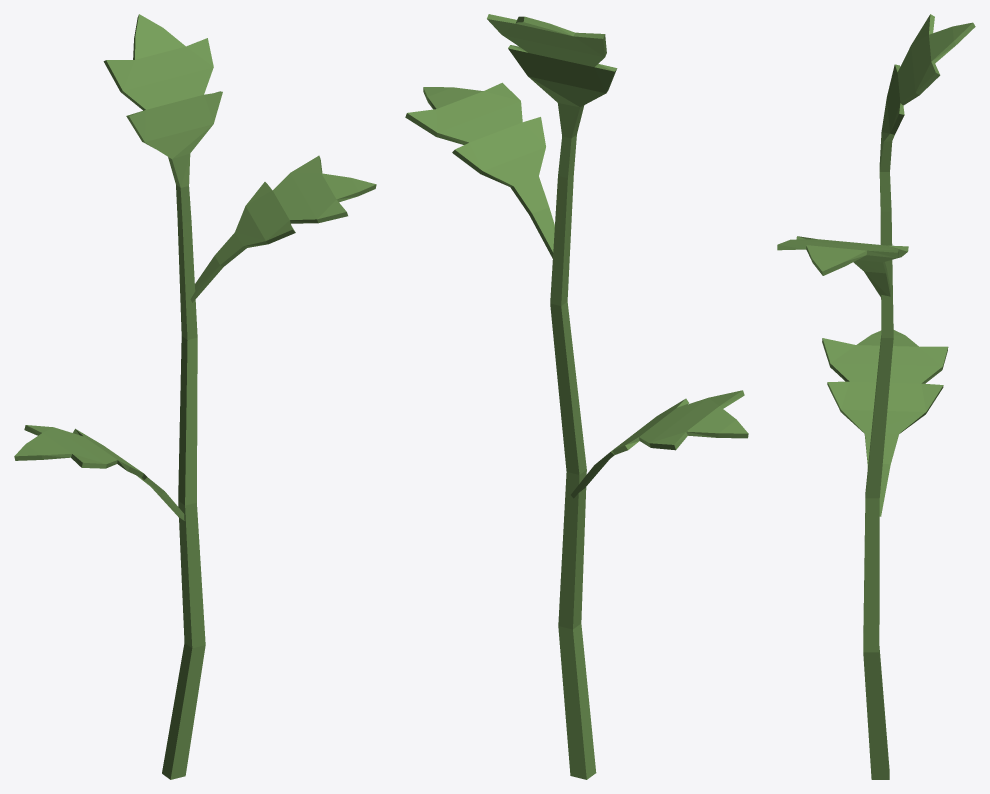
File: crop_tomato.s2.glb
The picture shows the model from 3 angles, left to right: view 1: azimuth 30°, elevation 25°; view 2: azimuth 150°, elevation 25°; view 3: azimuth 270°, elevation 25°; orthographic projection. The views are drawn at different scales.
Size of the model in its own units: 0.2191 by 0.4597 by 0.1089.
